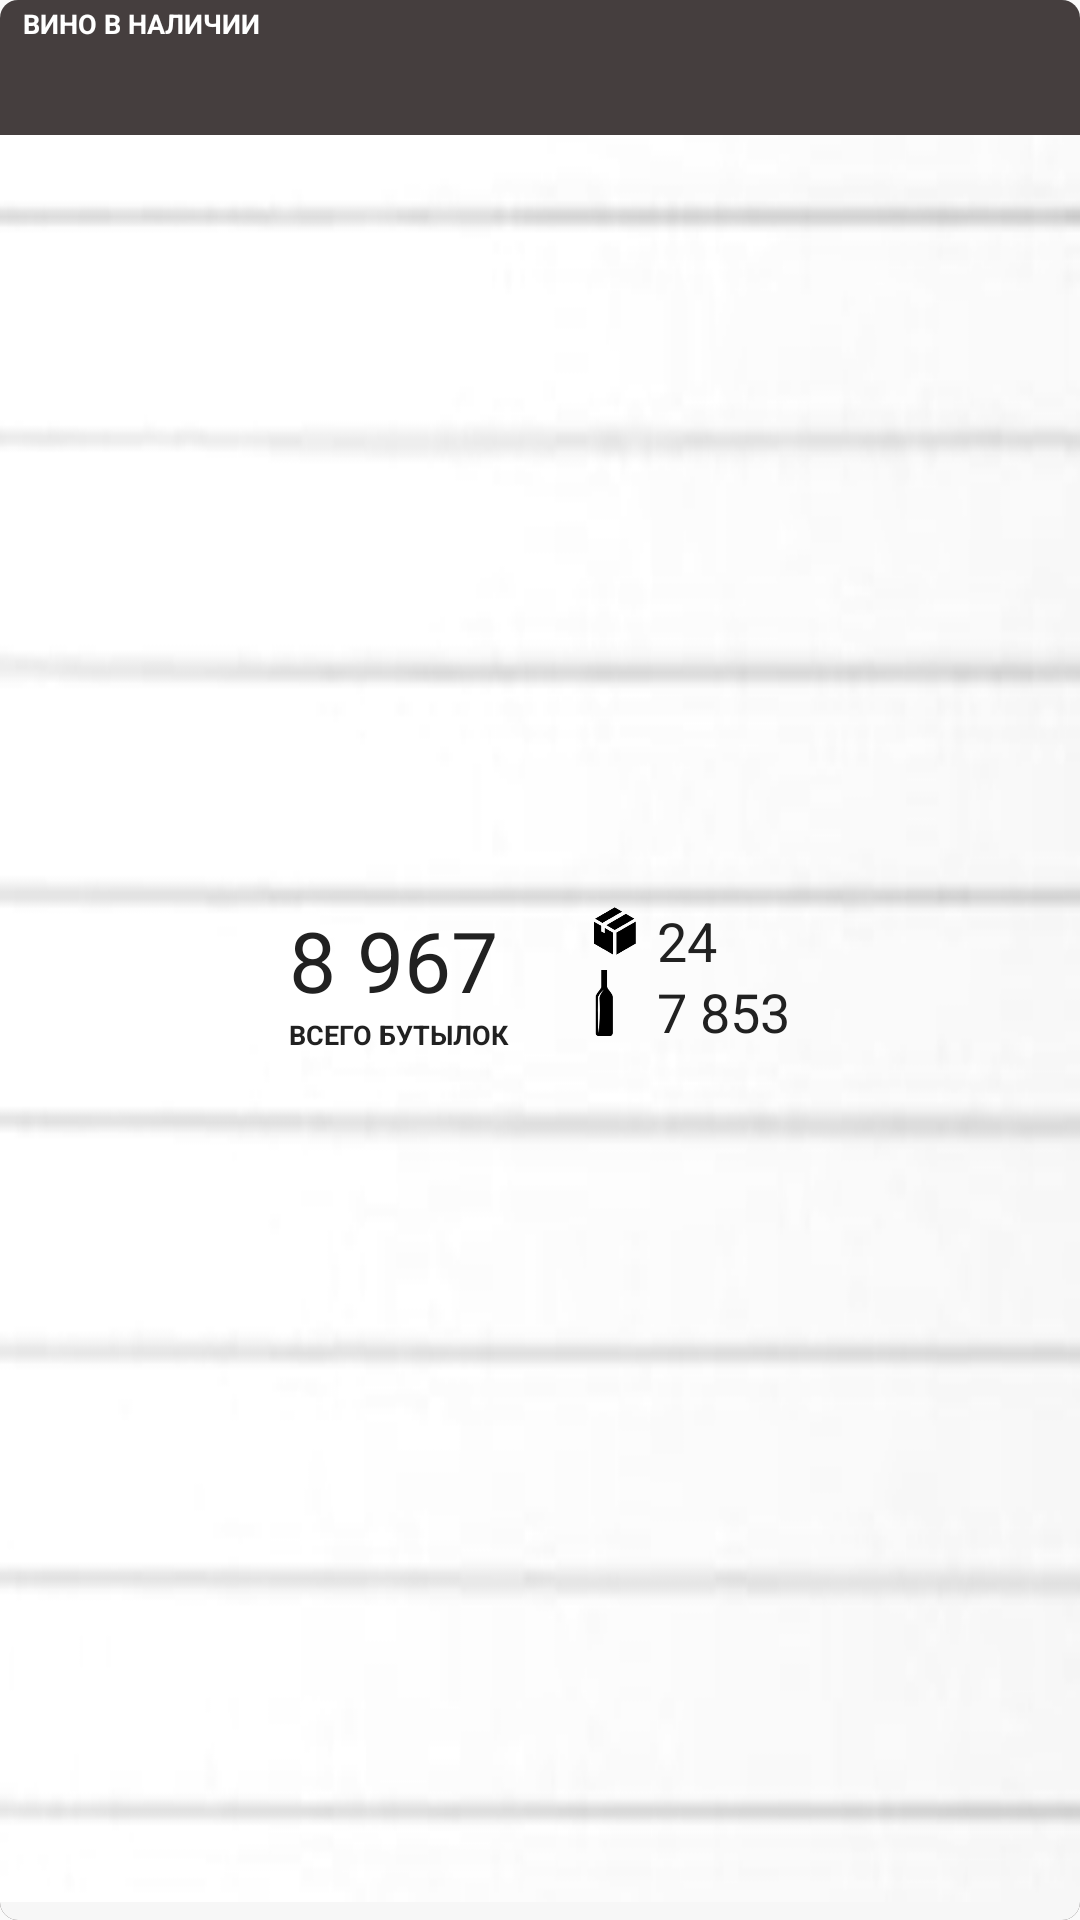

Screen size 1080px×1920px. Icon name, then its center in pixels as (x=x, y=y):
box: (x=615, y=931)
wine bottle: (x=604, y=1003)
